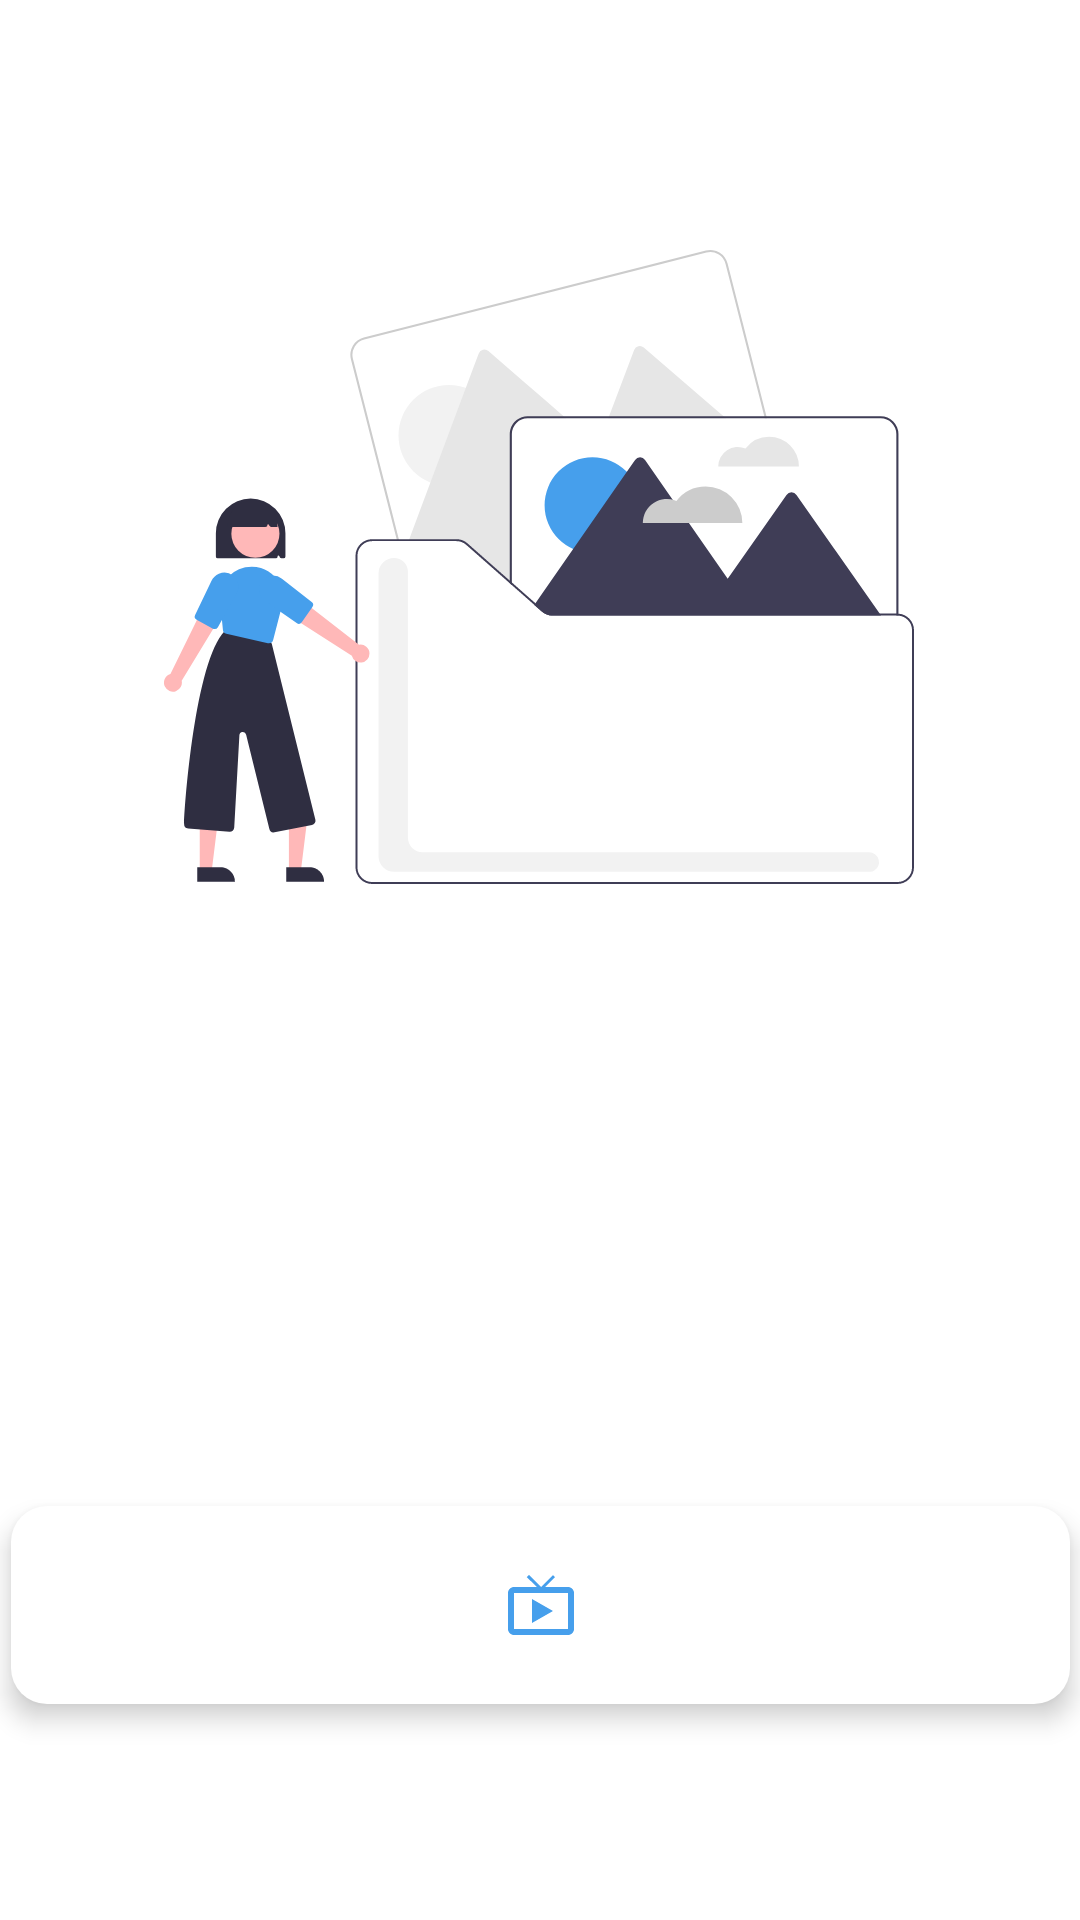

Named icons in this screenshot (1080 x 1920) and their bounding boxes, [x1,y1,x2,y2]:
live tv: [508,1575,574,1635]
